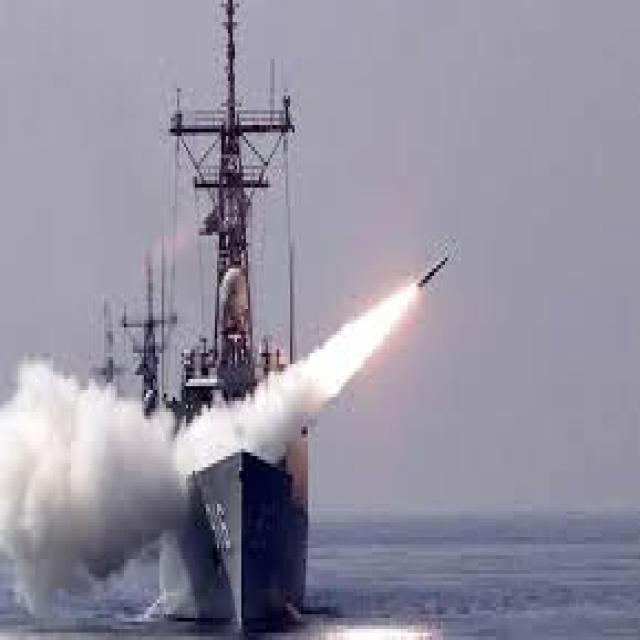navalvessels: (144, 55, 348, 640)
